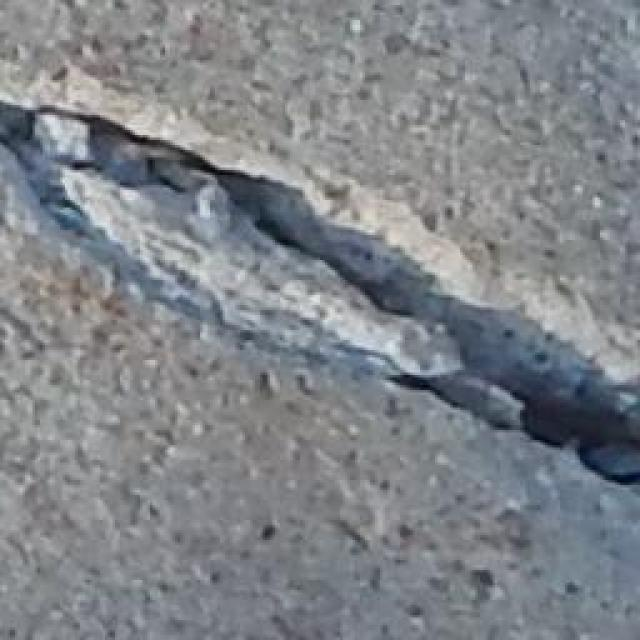concrete-crack: (0, 97, 640, 496)
